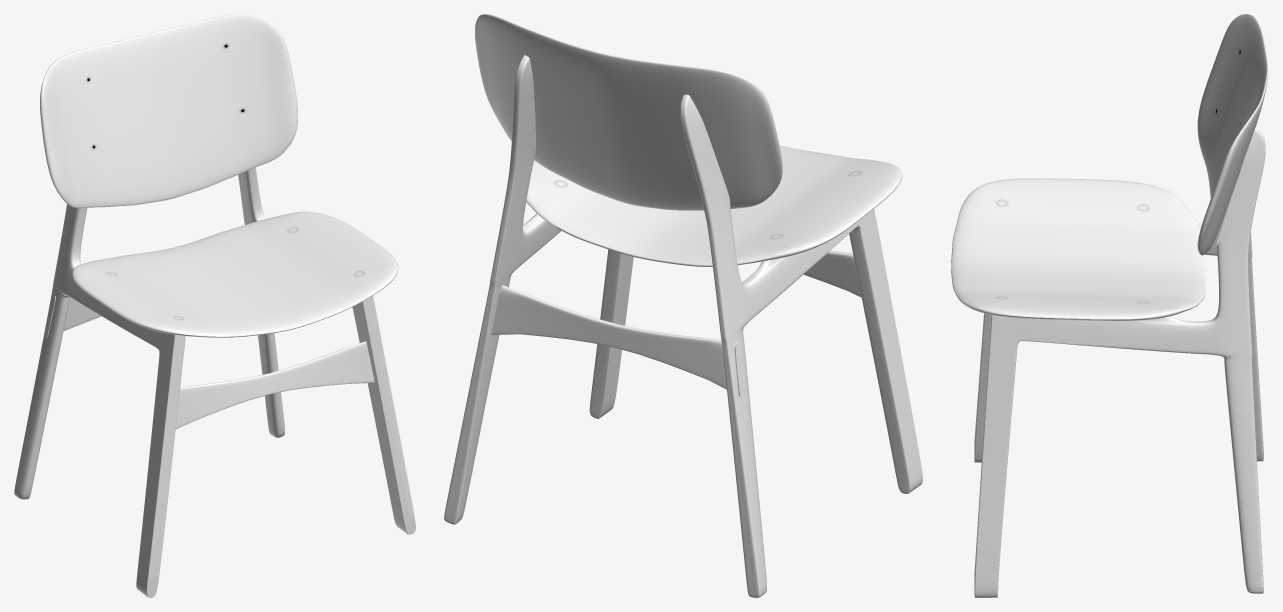
The model's file is chair.gltf.
The picture shows the model from 3 angles, left to right: view 1: azimuth 30°, elevation 25°; view 2: azimuth 150°, elevation 25°; view 3: azimuth 270°, elevation 25°; orthographic projection. The views are drawn at different scales.
Visible parts, largest first — view 1: woodplane02, woodplane, constructure, woodstick01, woodstick02; view 2: constructure, woodplane02, woodplane, woodstick02, woodstick01; view 3: woodplane, constructure, woodplane02.
Part boxes in pixels (x1,y1,x2,y2): woodplane02: (40, 14, 297, 208); woodplane: (72, 211, 398, 337); constructure: (14, 167, 415, 597); woodstick01: (175, 341, 374, 428); woodstick02: (44, 296, 101, 338); constructure: (444, 55, 922, 597); woodplane02: (475, 14, 782, 210); woodplane: (526, 145, 902, 266); woodstick02: (491, 285, 742, 396); woodstick01: (803, 250, 861, 297); woodplane: (951, 178, 1205, 320); constructure: (974, 128, 1265, 597); woodplane02: (1197, 14, 1268, 255).
Bounding box in the file's own units: 2.6 × 4.01 × 2.48.
Materials: 4 (1 with a texture image).
